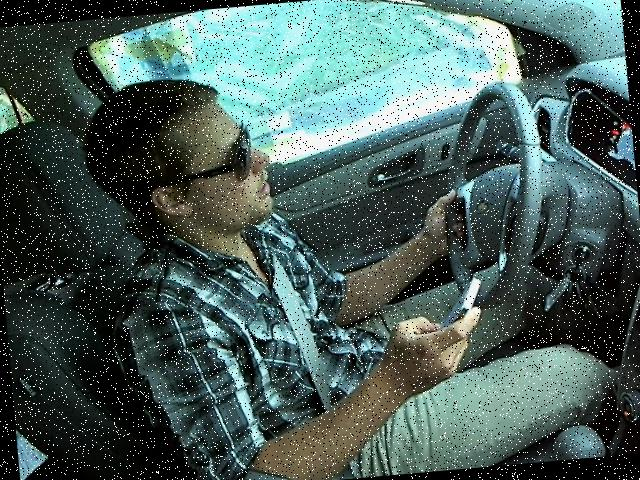c1 - Texting: (71, 41, 578, 479)
